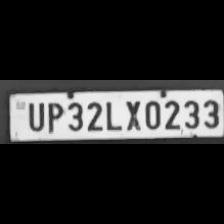0: (140, 98, 160, 130)
2: (84, 99, 104, 131), (161, 98, 181, 130)
3: (200, 97, 220, 129), (180, 97, 200, 128), (64, 99, 82, 131)
L: (102, 97, 122, 130)
P: (44, 100, 64, 132)
U: (22, 99, 44, 130)
X: (120, 97, 142, 130)
